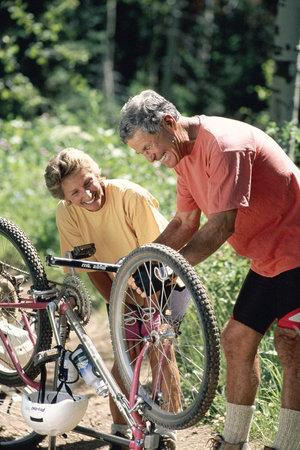person: (119, 89, 300, 450)
